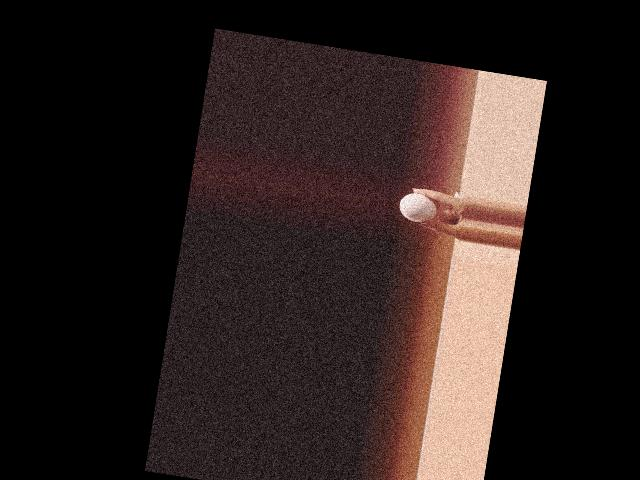egg: (397, 191, 439, 225)
